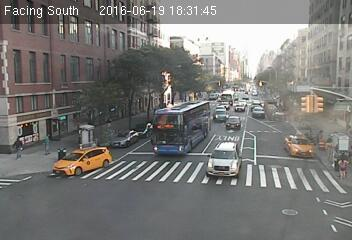neg: (63, 50, 81, 74), (148, 133, 166, 156), (107, 34, 124, 56), (162, 32, 178, 53), (29, 173, 45, 194), (263, 168, 278, 188), (301, 49, 316, 69), (292, 123, 306, 143), (152, 176, 166, 195), (83, 95, 97, 114), (219, 34, 233, 52), (211, 173, 224, 191), (206, 115, 219, 131), (278, 46, 289, 61), (19, 59, 28, 71)
pos: (8, 135, 27, 161), (39, 132, 55, 154), (336, 156, 351, 178)
